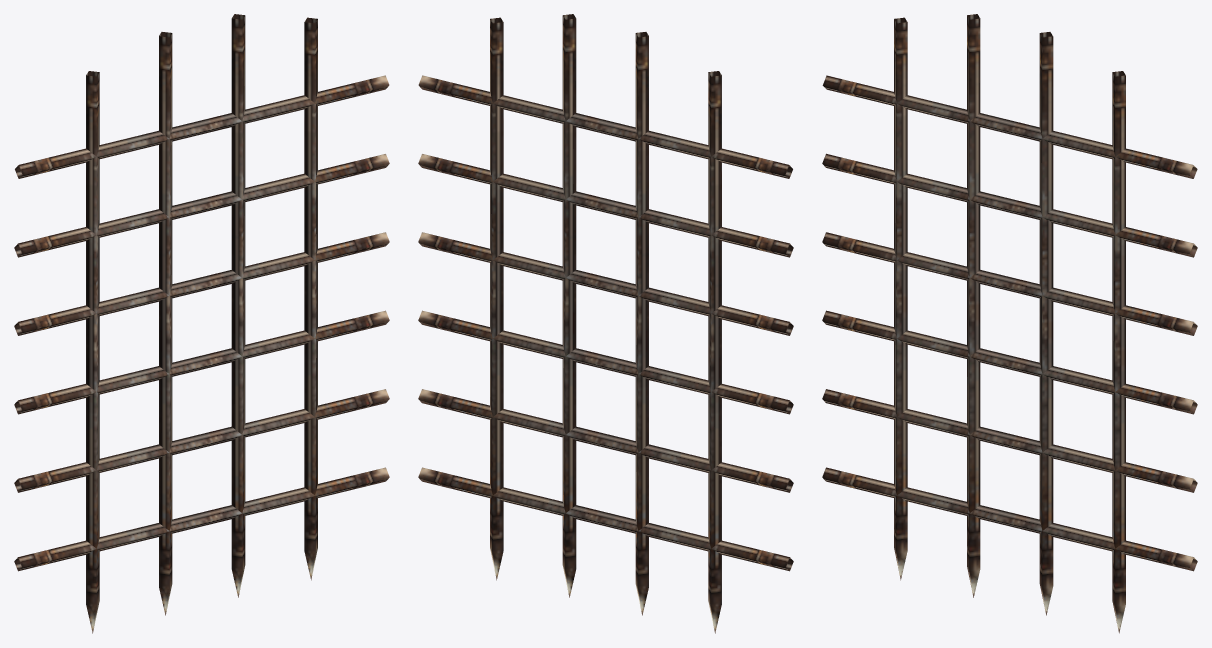
The model's file is SC_huangmo_11.FBX.
The picture shows the model from 3 angles, left to right: view 1: azimuth 30°, elevation 25°; view 2: azimuth 150°, elevation 25°; view 3: azimuth 330°, elevation 25°; orthographic projection.
Parts seen in each view (by area): view 1: SC_huangmo_11; view 2: SC_huangmo_11; view 3: SC_huangmo_11.
Part boxes in pixels (bbox=[...]): SC_huangmo_11: bbox=[14, 14, 389, 633]; SC_huangmo_11: bbox=[418, 14, 793, 633]; SC_huangmo_11: bbox=[822, 14, 1197, 633].
Bounding box in the file's own units: 289 × 437 × 10.69.
